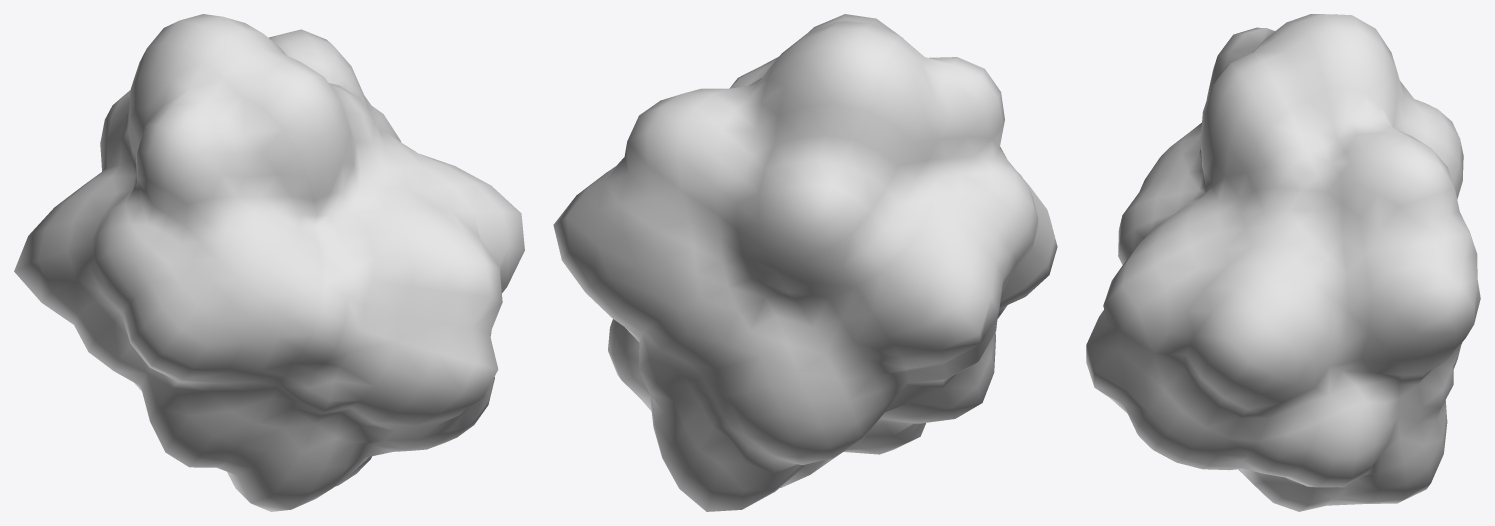
The model's file is Wool.fbx.
3 views of the same model, side by side, from view 1: azimuth 30°, elevation 25°; view 2: azimuth 150°, elevation 25°; view 3: azimuth 270°, elevation 25° (orthographic). The views are drawn at different scales.
Parts seen in each view (by area): view 1: WoolSheep; view 2: WoolSheep; view 3: WoolSheep.
Part boxes in pixels (x1,y1,x2,y2): WoolSheep: (14, 14, 524, 511); WoolSheep: (553, 14, 1057, 511); WoolSheep: (1086, 14, 1480, 511).
Bounding box in the file's own units: 0.3829 × 0.406 × 0.3252.
1 material, 1 textured.
